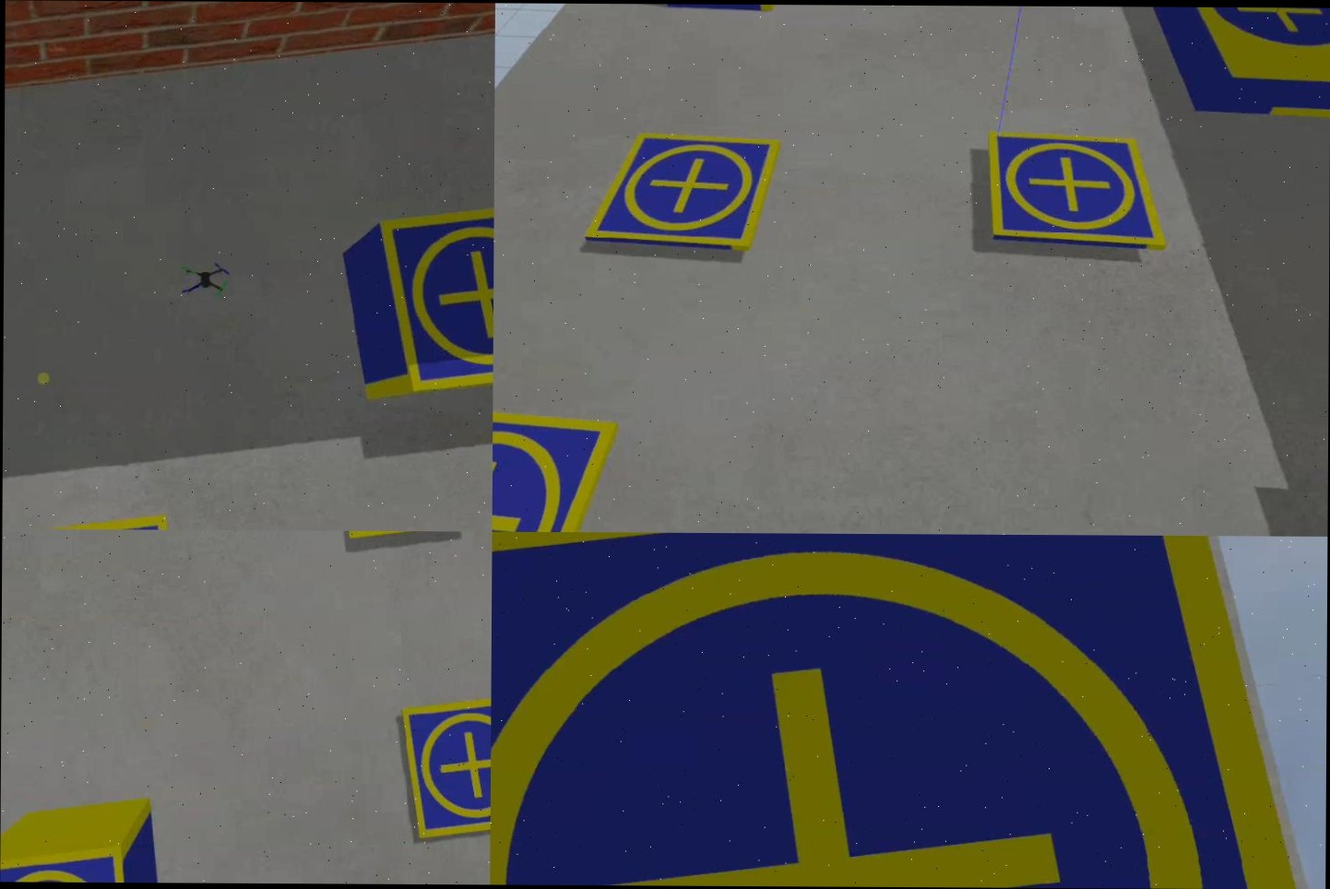large_base: (1126, 6, 1330, 133)
small_base: (490, 532, 1326, 889), (578, 119, 783, 259), (984, 124, 1170, 256), (379, 199, 494, 397), (493, 398, 622, 532), (400, 693, 492, 845), (0, 842, 137, 882)
